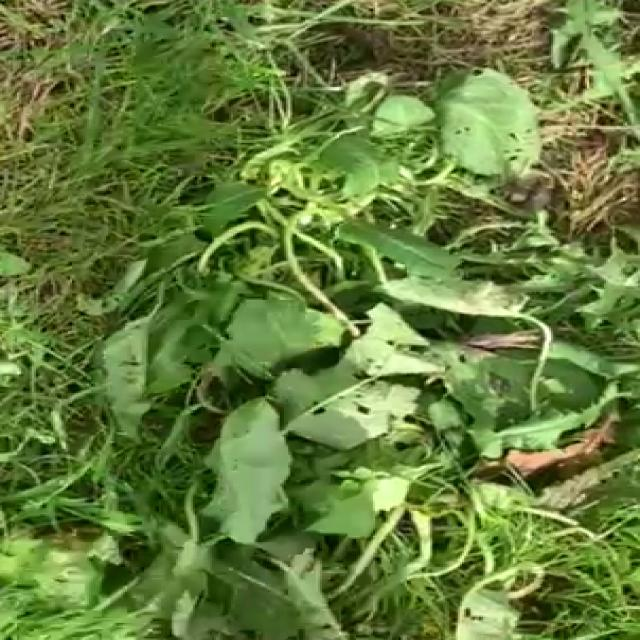organic waste: (144, 107, 640, 477), (114, 303, 623, 587)
